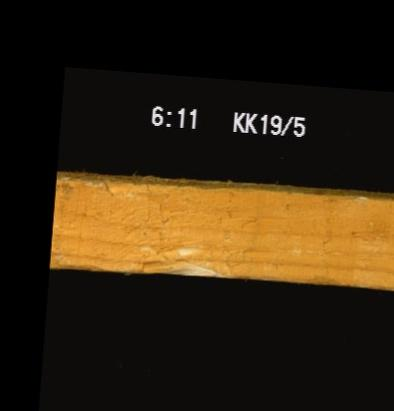wave: (132, 239, 228, 274)
